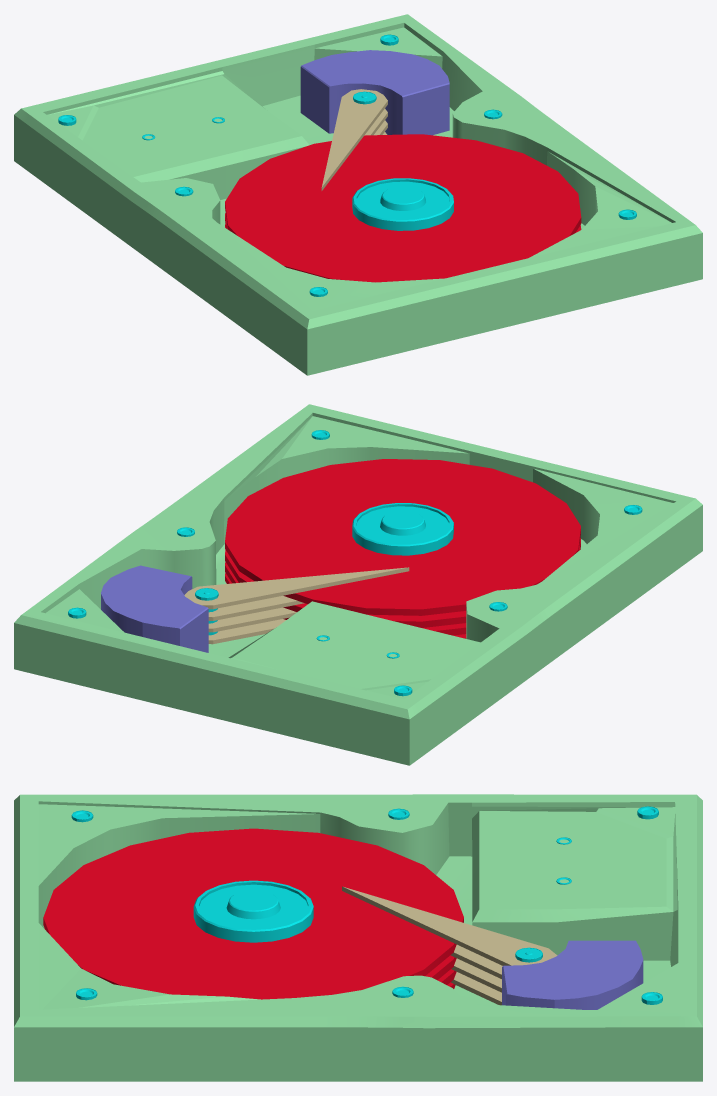
The model's file is HDD.fbx.
3 views of the same model, one above another, from view 1: azimuth 30°, elevation 25°; view 2: azimuth 150°, elevation 25°; view 3: azimuth 270°, elevation 25° (orthographic). The views are drawn at different scales.
Parts seen in each view (by area): view 1: Shell, Disk4, ArmBase, Bolt, Arm; view 2: Shell, Disk4, ArmBase, Bolt, Arm, Disk1, Arm1, Arm2, Arm3; view 3: Shell, Disk4, ArmBase, Bolt, Arm, Arm1, Arm3, Arm2.
Part boxes in pixels (x1,y1,x2,y2): Shell: (14, 14, 702, 375); Disk4: (225, 134, 581, 282); ArmBase: (300, 50, 449, 135); Bolt: (352, 178, 453, 230); Arm: (321, 89, 387, 190); Shell: (14, 404, 702, 765); Disk4: (225, 459, 580, 615); ArmBase: (101, 565, 208, 652); Bolt: (352, 503, 453, 555); Arm: (184, 567, 409, 609); Disk1: (225, 538, 580, 627); Arm1: (208, 596, 304, 620); Arm2: (208, 607, 296, 632); Arm3: (208, 619, 285, 644); Shell: (14, 794, 702, 1081); Disk4: (43, 828, 463, 999); ArmBase: (502, 940, 643, 1009); Bolt: (193, 880, 313, 942); Arm: (342, 886, 557, 965); Arm1: (450, 944, 502, 978); Arm3: (451, 972, 501, 1005); Arm2: (451, 958, 501, 992).
Bounding box in the file's own units: 11.61 × 1.62 × 14.9.
